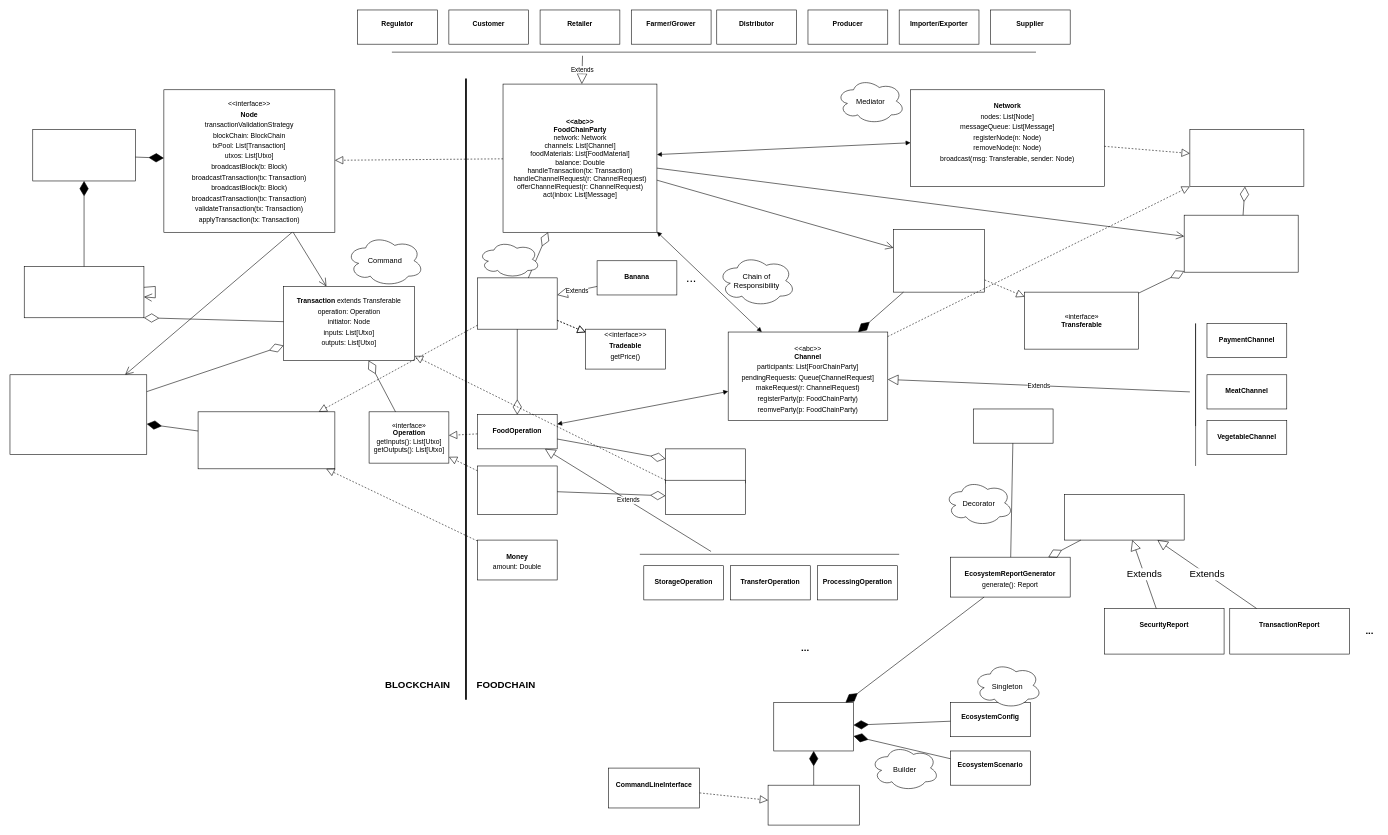
This 1388x835 diagram has some shape labels left out. Here are the shapes that lost their labels. From the top down, the box of each, then its label:
(32, 129, 135, 181): BlockChain history: List[Block] append(block: Block)
(1189, 129, 1304, 187): «interface» MessageQueue collectMessages()
(478, 240, 540, 278): State
(893, 229, 985, 292): <<abc>> ChannelRequest channel: Channel sender: FoodChainParty
(1184, 215, 1298, 272): «interface» Message sender: Node recipient: Node content: Transferable
(24, 266, 144, 318): Block extends Transferable prevBlock: Block transactions: List[Transaction]
(477, 277, 557, 329): <<abc>> FoodMaterial
(9, 374, 147, 455): Utxo owner: Node content: UtxoContent validateSignature(signature: String)
(973, 408, 1053, 443): TextReportGenerator
(198, 411, 335, 469): <<interface>> UtxoContent id: String
(665, 448, 745, 483): FoodTransaction
(477, 465, 557, 514): PaymentOperation from: FoodChainParty to: FoodChainParty
(665, 480, 745, 514): MoneyTransaction
(1064, 494, 1184, 540): EcosystemReport
(773, 702, 854, 751): EcosystemSimulation run() simulationCycle()
(768, 785, 859, 825): <<interface>> ClientInterface
